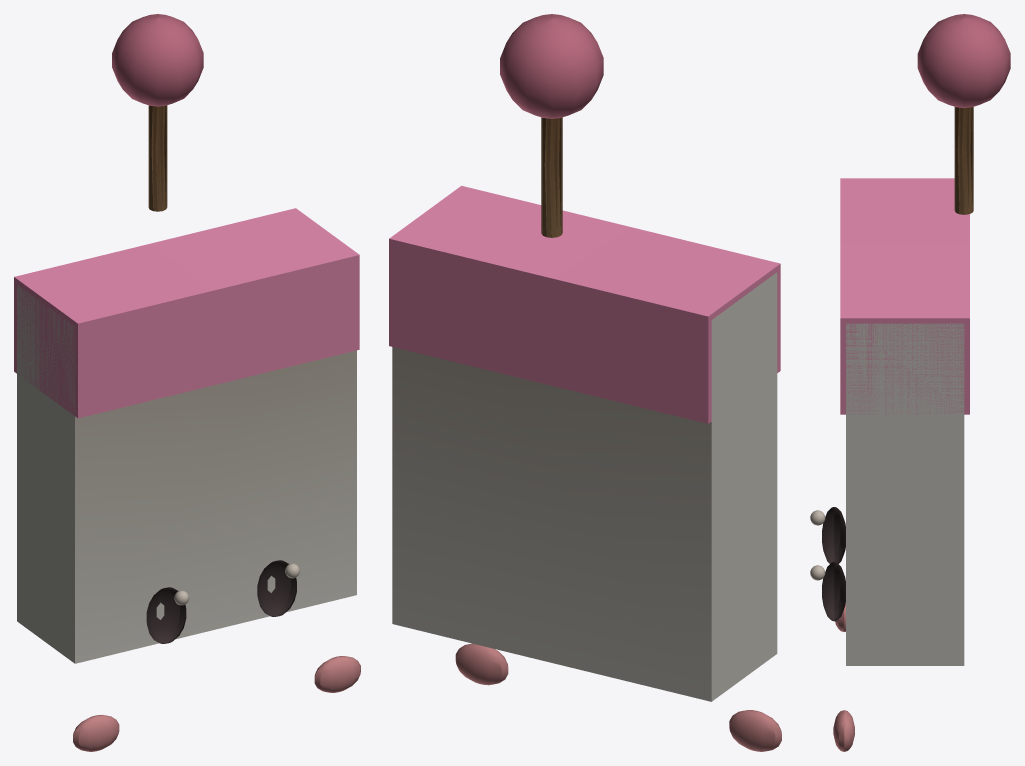
3 views of the same model, side by side, from view 1: azimuth 30°, elevation 25°; view 2: azimuth 150°, elevation 25°; view 3: azimuth 270°, elevation 25° (orthographic). The views are drawn at different scales.
Parts seen in each view (by area): view 1: pet_pc983bd16; view 2: pet_pc983bd16; view 3: pet_pc983bd16.
Boxes of the visible parts, bbox=[...] form: pet_pc983bd16: bbox=[14, 14, 360, 751]; pet_pc983bd16: bbox=[389, 14, 781, 751]; pet_pc983bd16: bbox=[810, 14, 1010, 751].
Bounding box in the file's own units: 0.2861 × 0.6264 × 0.1698.
